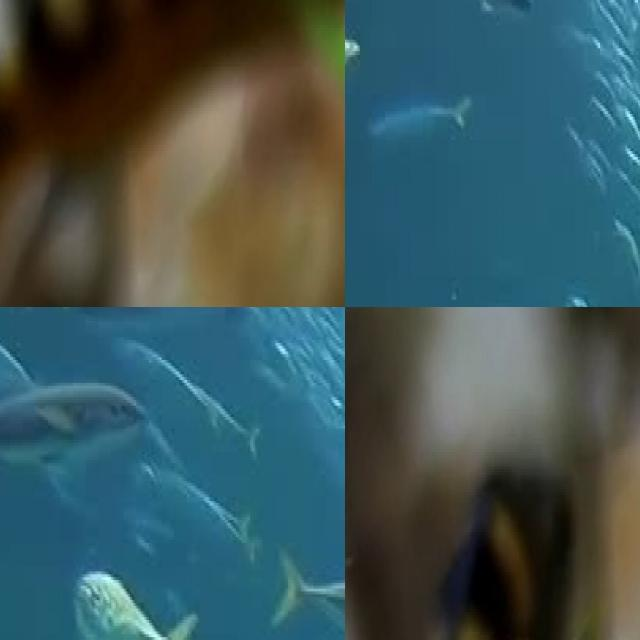fish: (0, 0, 345, 307), (261, 520, 345, 640)
